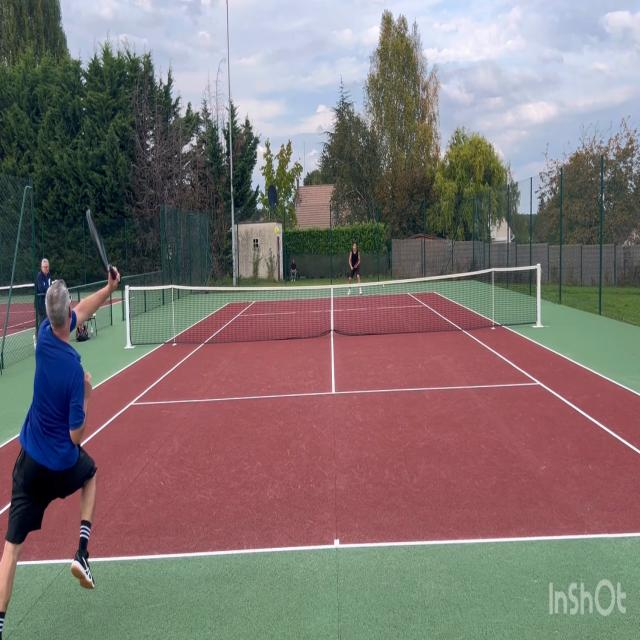ball: (275, 226, 279, 234), (382, 284, 384, 287)
